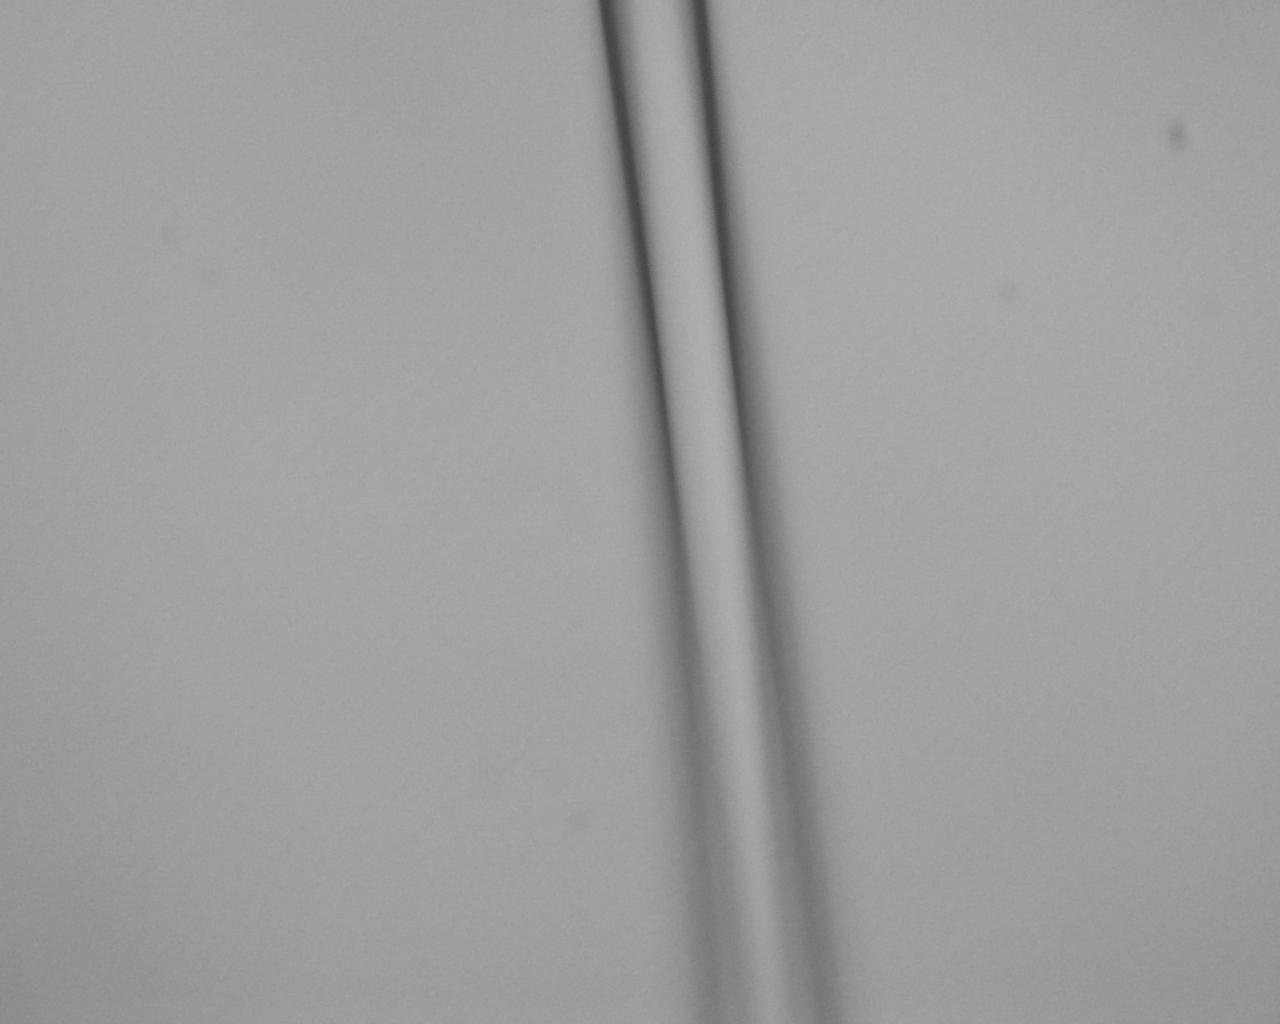fiber: (485, 491, 729, 1024), (729, 812, 1274, 899)
